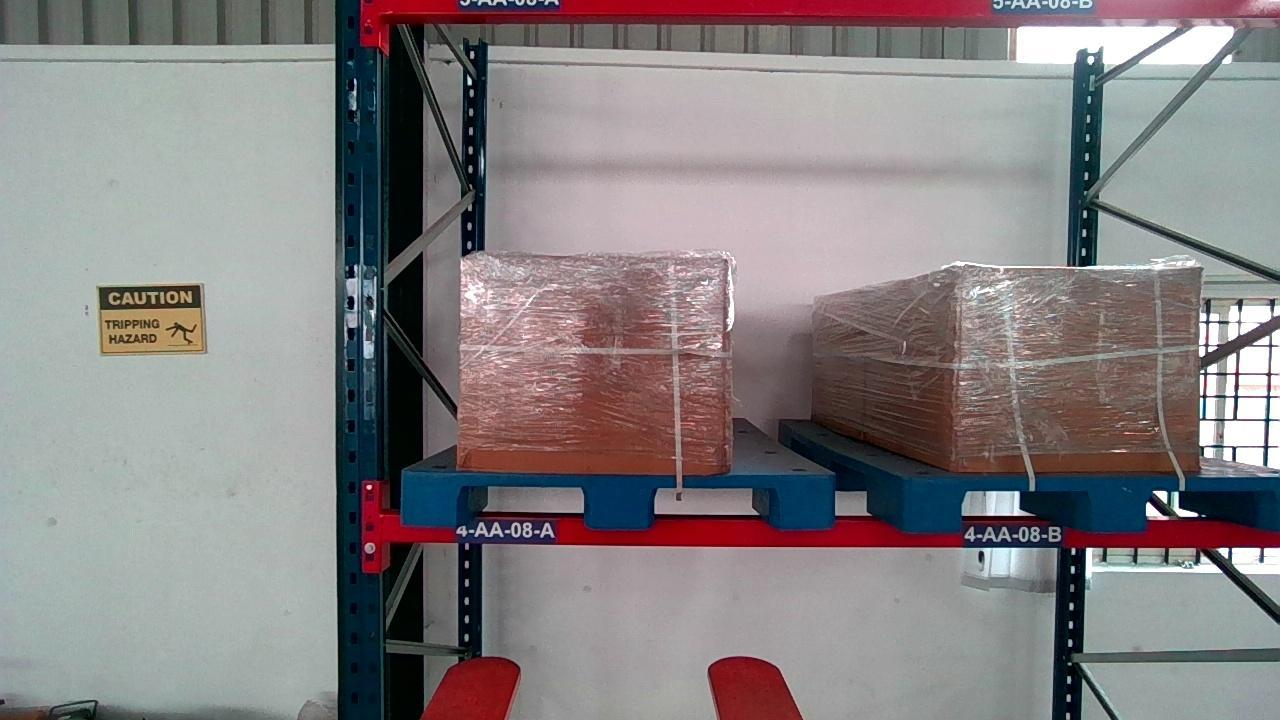h_rack: (385, 516, 1276, 544)
small_pallet: (402, 475, 833, 530), (911, 476, 1277, 534)
